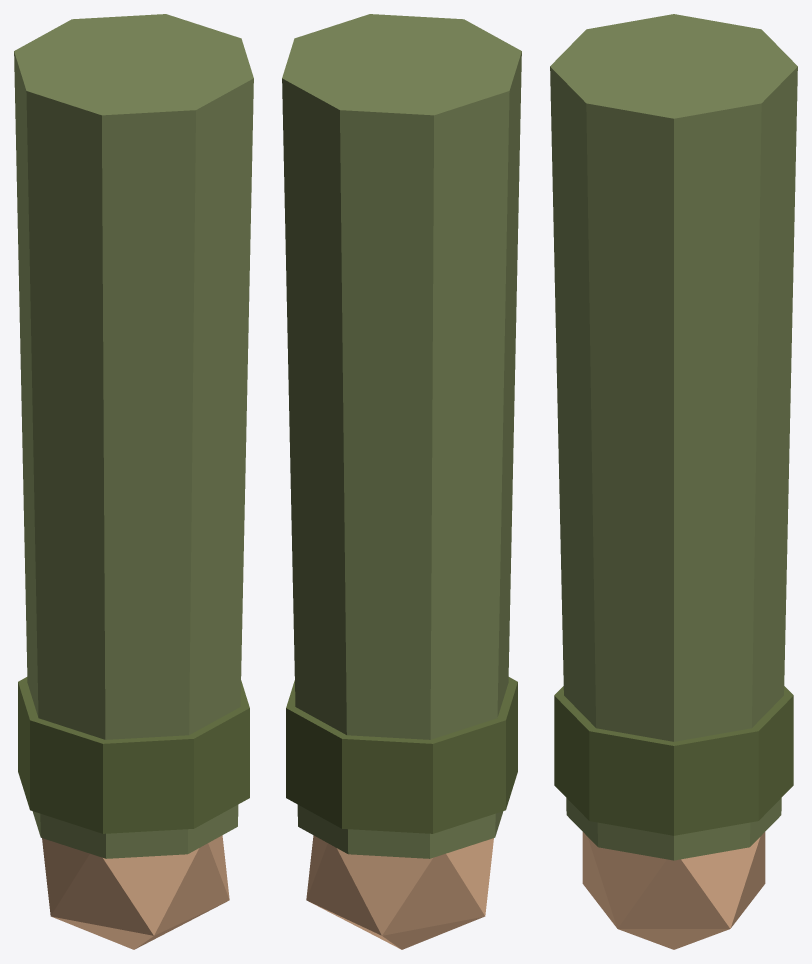
The model's file is insan_e3_kol.glb.
The picture shows the model from 3 angles, left to right: view 1: azimuth 30°, elevation 25°; view 2: azimuth 150°, elevation 25°; view 3: azimuth 270°, elevation 25°; orthographic projection.
Parts seen in each view (by area): view 1: Cone; view 2: Cone; view 3: Cone.
Part boxes in pixels (x1,y1,x2,y2): Cone: (14, 14, 253, 949); Cone: (282, 14, 521, 949); Cone: (550, 14, 797, 949).
Size of the model in its own units: 0.03 by 0.118 by 0.03.
